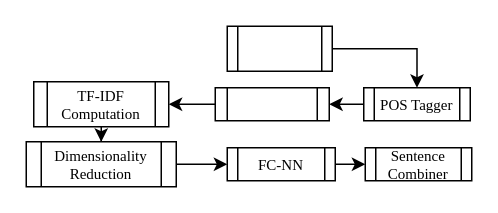
Image size: 498x213. Some labels were removed from this diagram. The shapes that lost their labels are listed below. From the top down, each one's centre as x and y in pixels, then its label:
At [279,48]: "Tweet Sentences".
At [271,103]: "POS Selector".
